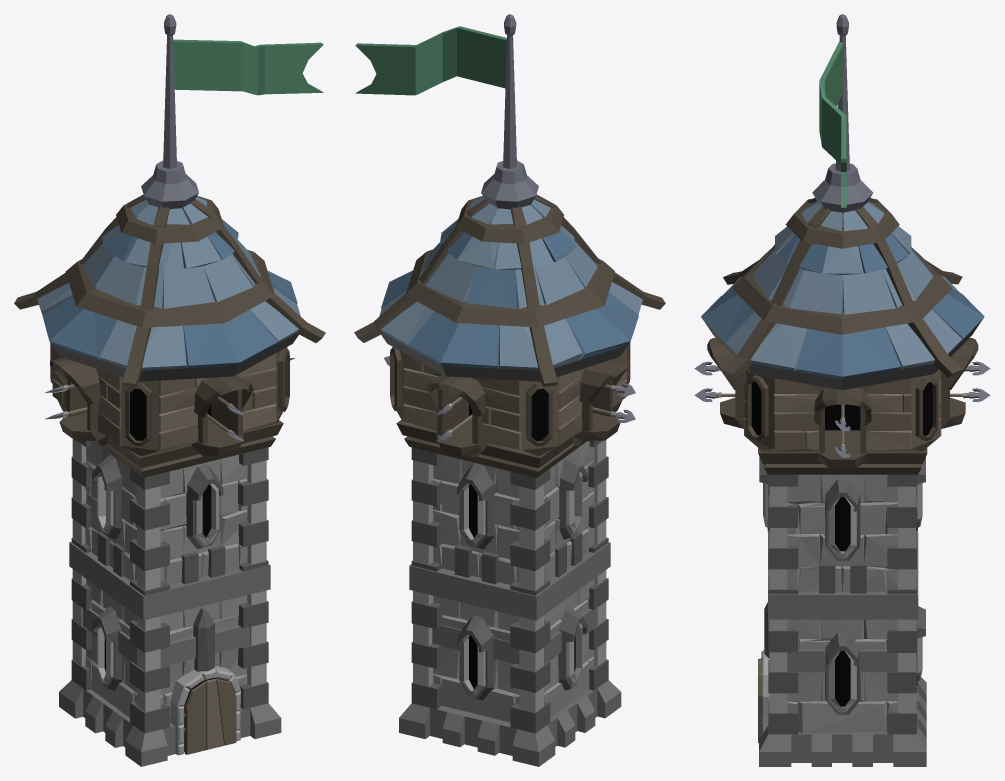
The model's file is _arches_tower_LVL_4.fbx.
3 views of the same model, side by side, from view 1: azimuth 30°, elevation 25°; view 2: azimuth 150°, elevation 25°; view 3: azimuth 270°, elevation 25° (orthographic).
Parts seen in each view (by area): view 1: arches_tower_LVL_4; view 2: arches_tower_LVL_4; view 3: arches_tower_LVL_4.
Boxes of the visible parts, x1,y1,x2,y2 form: arches_tower_LVL_4: (14, 14, 325, 766); arches_tower_LVL_4: (354, 14, 665, 766); arches_tower_LVL_4: (694, 14, 990, 766).
Bounding box in the file's own units: 836 × 2019 × 755.
